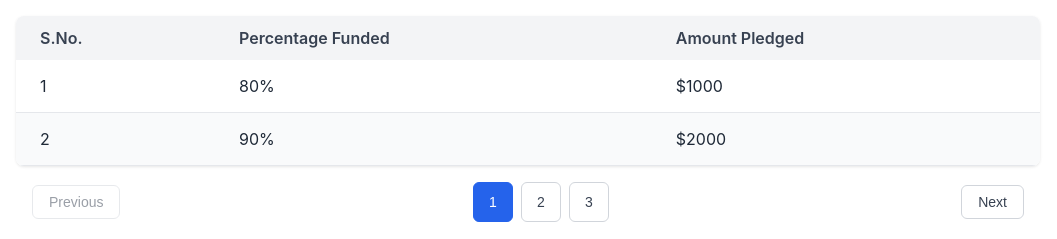
Test case: Table Component › Navigation › previous button shows previous page of data
What coordinates should you click on to do the following:
click the button "Next"
I would click on:
 (993, 202)
Its box is x1=961 y1=185 x2=1024 y2=219.
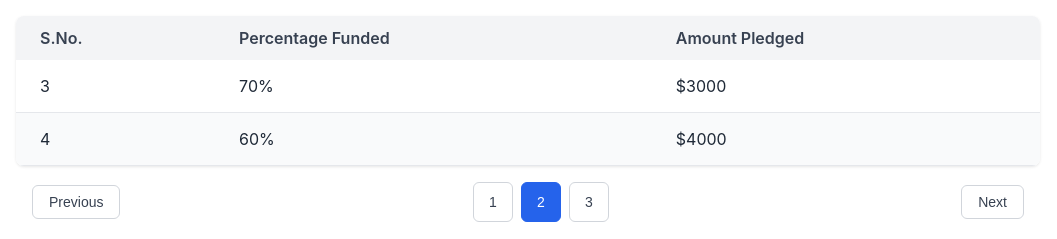
What coordinates should you click on to do the following:
click the button "Previous"
I would click on:
 (76, 202)
Its box is x1=32 y1=185 x2=120 y2=219.
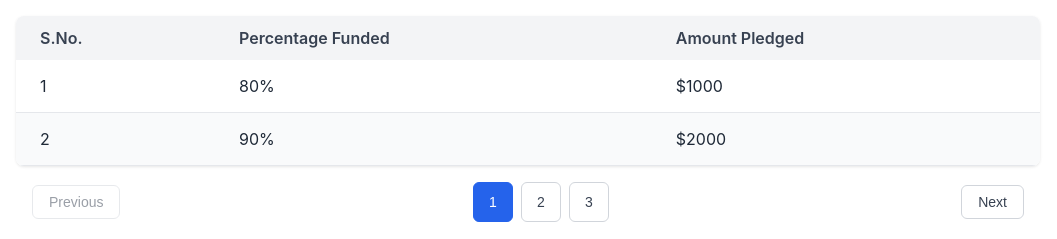
Check: the text "$1000" is shown, box x1=652 y1=60 x2=1040 y2=112
Check: the text "$3000" is gone
